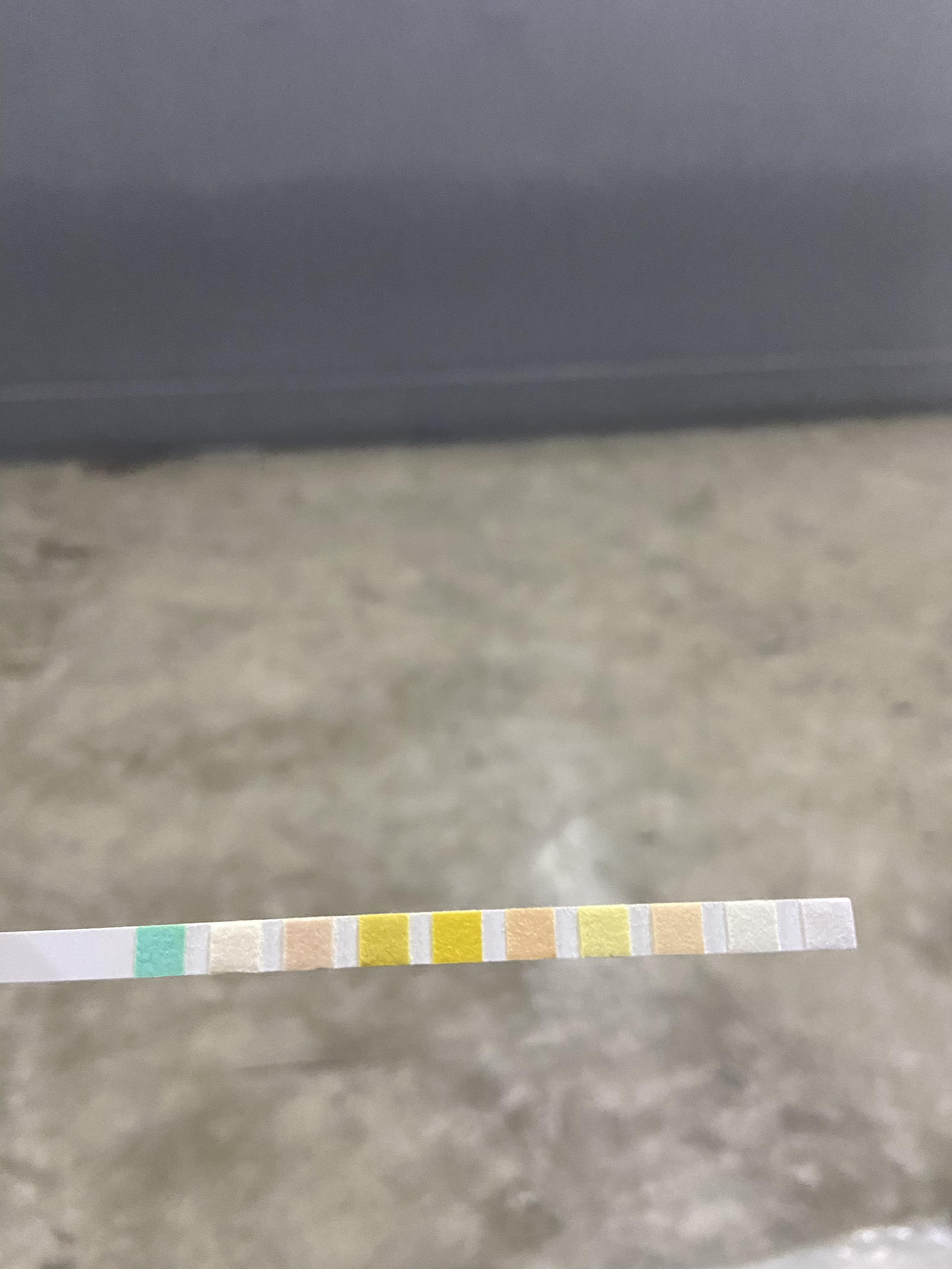Bilirubin: (210, 925, 257, 972)
Blood: (432, 913, 479, 960)
Glucose: (136, 928, 183, 975)
Ketone: (285, 920, 333, 968)
Leukocytes: (805, 899, 852, 947)
Nitrite: (727, 902, 775, 950)
Protein: (581, 908, 628, 955)
SpGravity: (361, 917, 408, 965)
Urobilinogen: (654, 906, 701, 954)
pH: (505, 909, 553, 957)
strip: (0, 898, 857, 983)
